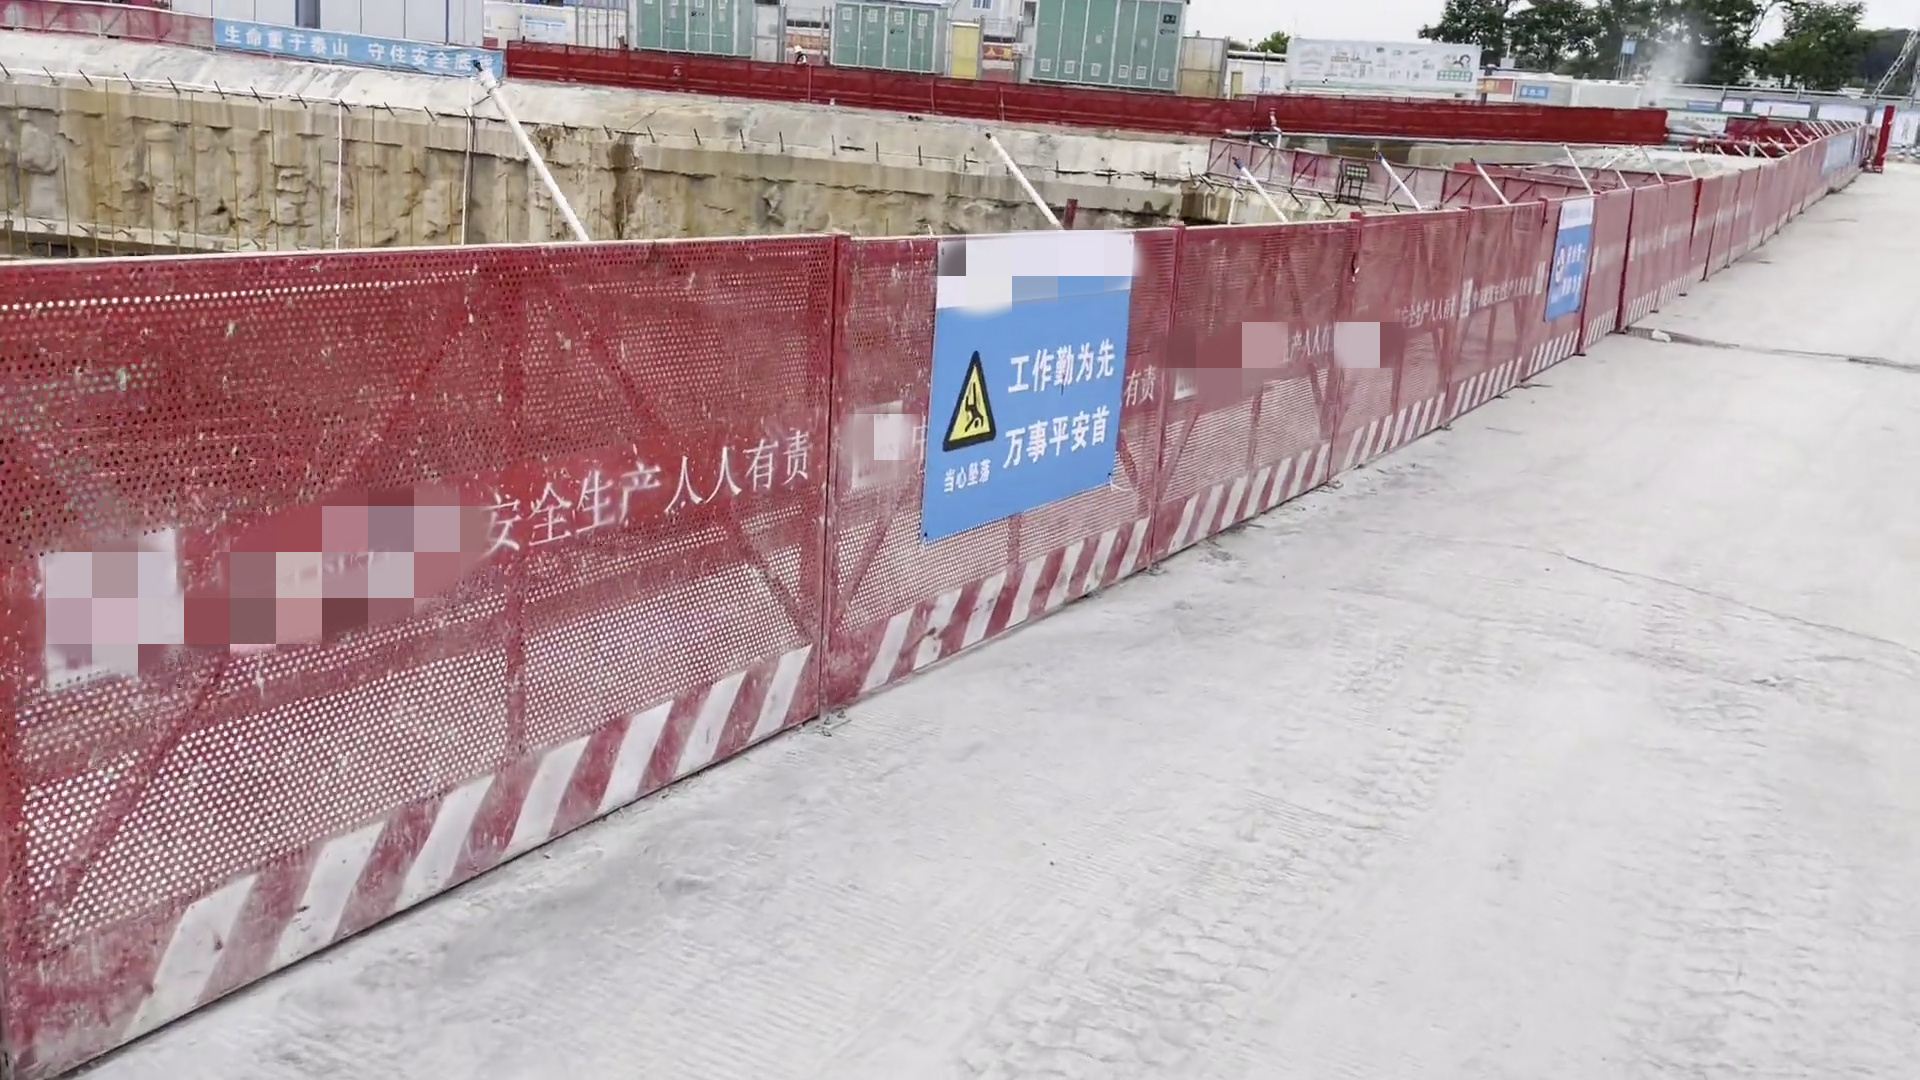fence: (7, 127, 1870, 1077), (7, 1, 1888, 169)
slogan: (487, 439, 818, 563), (214, 22, 500, 88), (1279, 326, 1333, 372)
